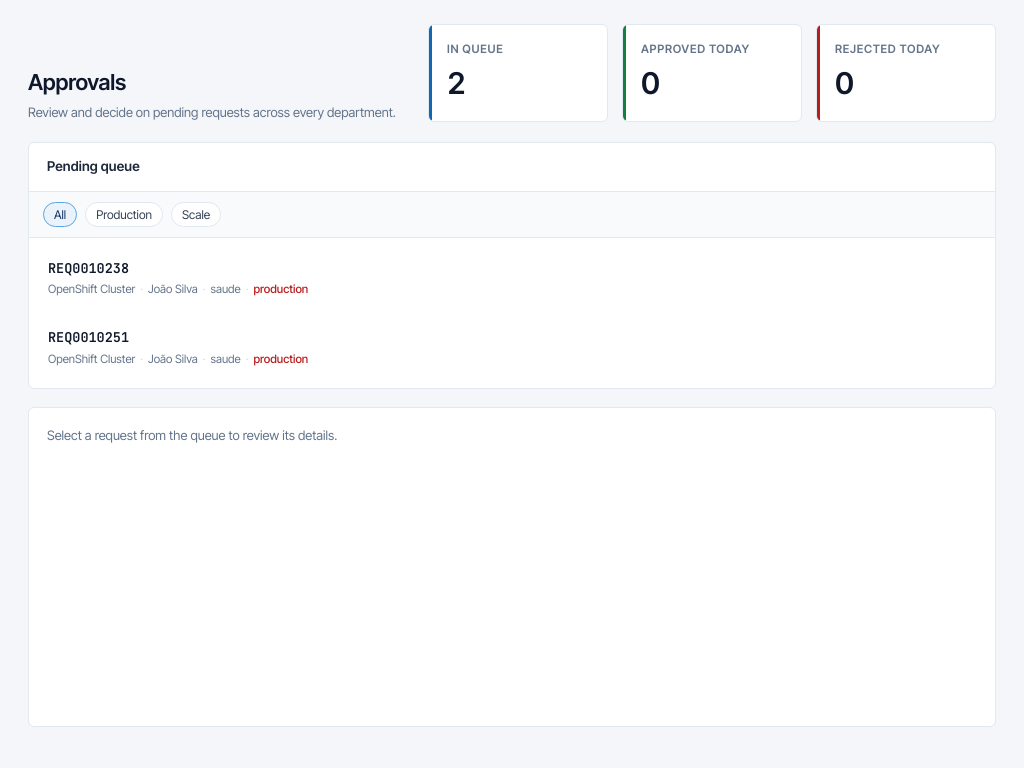
Test case: Approvals › clicking the Scale chip filters queue to scale-request only
The image size is (1024, 768).
Click the button with class "filter-chip" showing "Scale" at (196, 214), box [171,202,221,227]
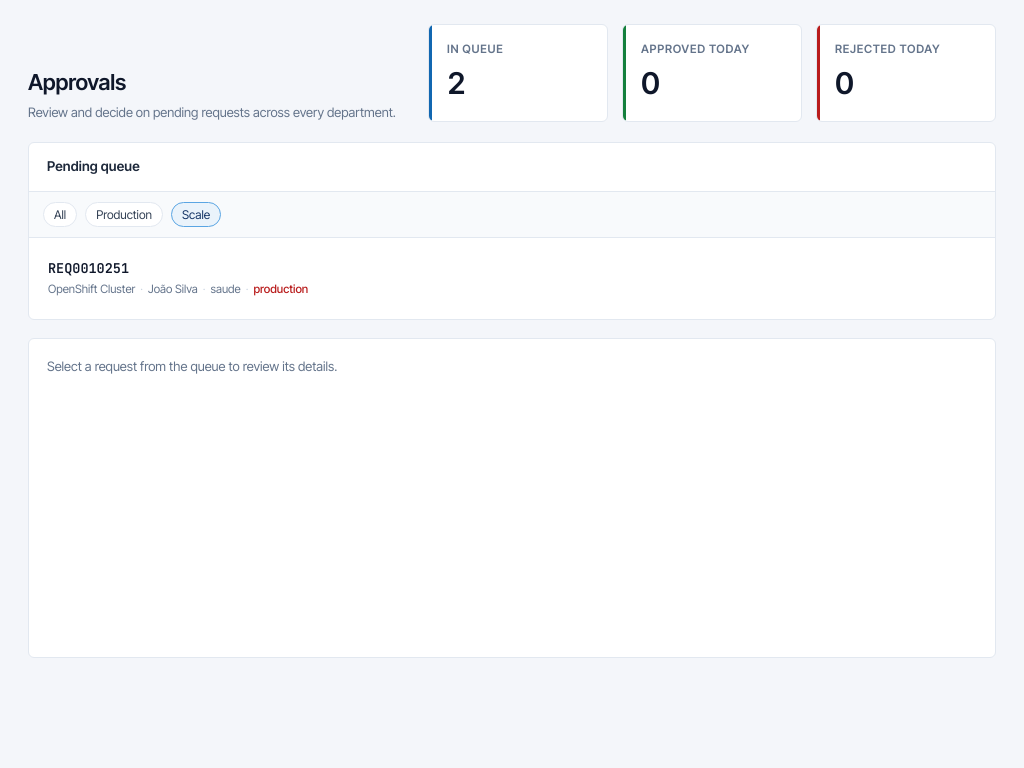
Now the number of buttons with class "approval-row" is 1, box [48,259,308,296]
